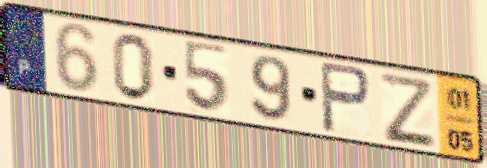0: (108, 31, 157, 104)
5: (180, 37, 233, 117)
6: (52, 19, 103, 97)
9: (248, 52, 295, 125)
P: (317, 58, 374, 137)
Z: (375, 69, 439, 148)
